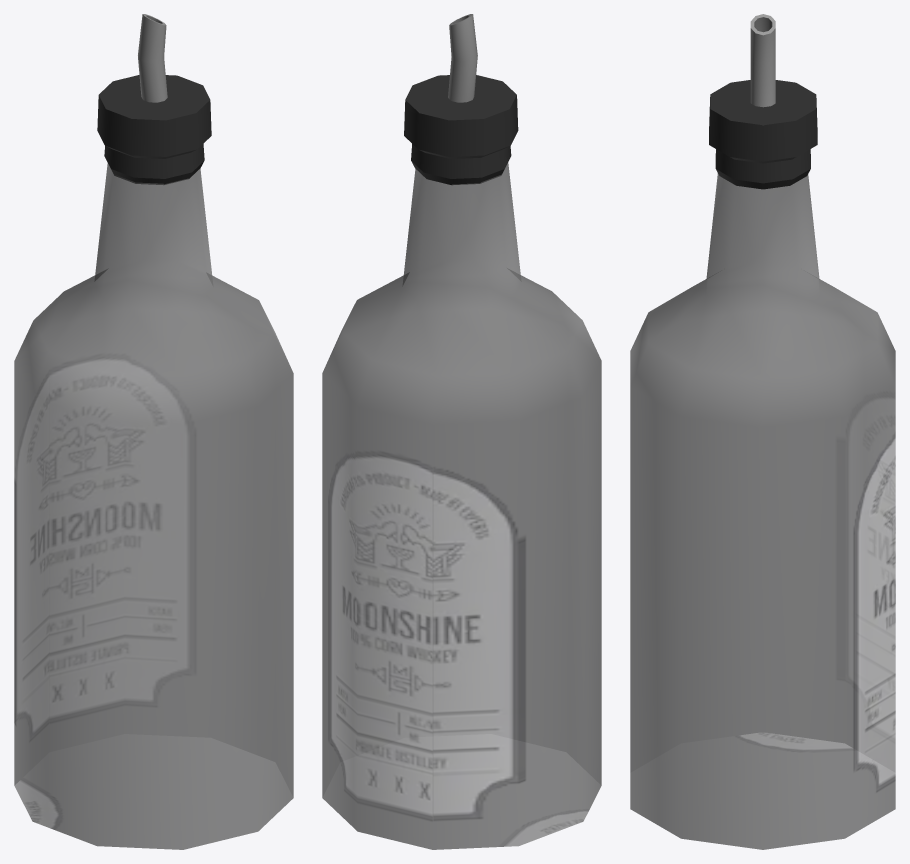
Rendered from Moonshine_Finished.fbx.
The picture shows the model from 3 angles, left to right: view 1: azimuth 30°, elevation 25°; view 2: azimuth 150°, elevation 25°; view 3: azimuth 270°, elevation 25°; orthographic projection.
Parts seen in each view (by area): view 1: Moonshine, Dop4; view 2: Moonshine, Dop4; view 3: Moonshine, Dop4.
Part boxes in pixels (<box>): Moonshine: <box>14,163,293,849</box>; Dop4: <box>97,14,211,184</box>; Moonshine: <box>322,162,601,849</box>; Dop4: <box>404,14,518,185</box>; Moonshine: <box>630,173,895,849</box>; Dop4: <box>709,14,817,189</box>.
Bounding box in the file's own units: 16.2 × 49.53 × 15.4.
